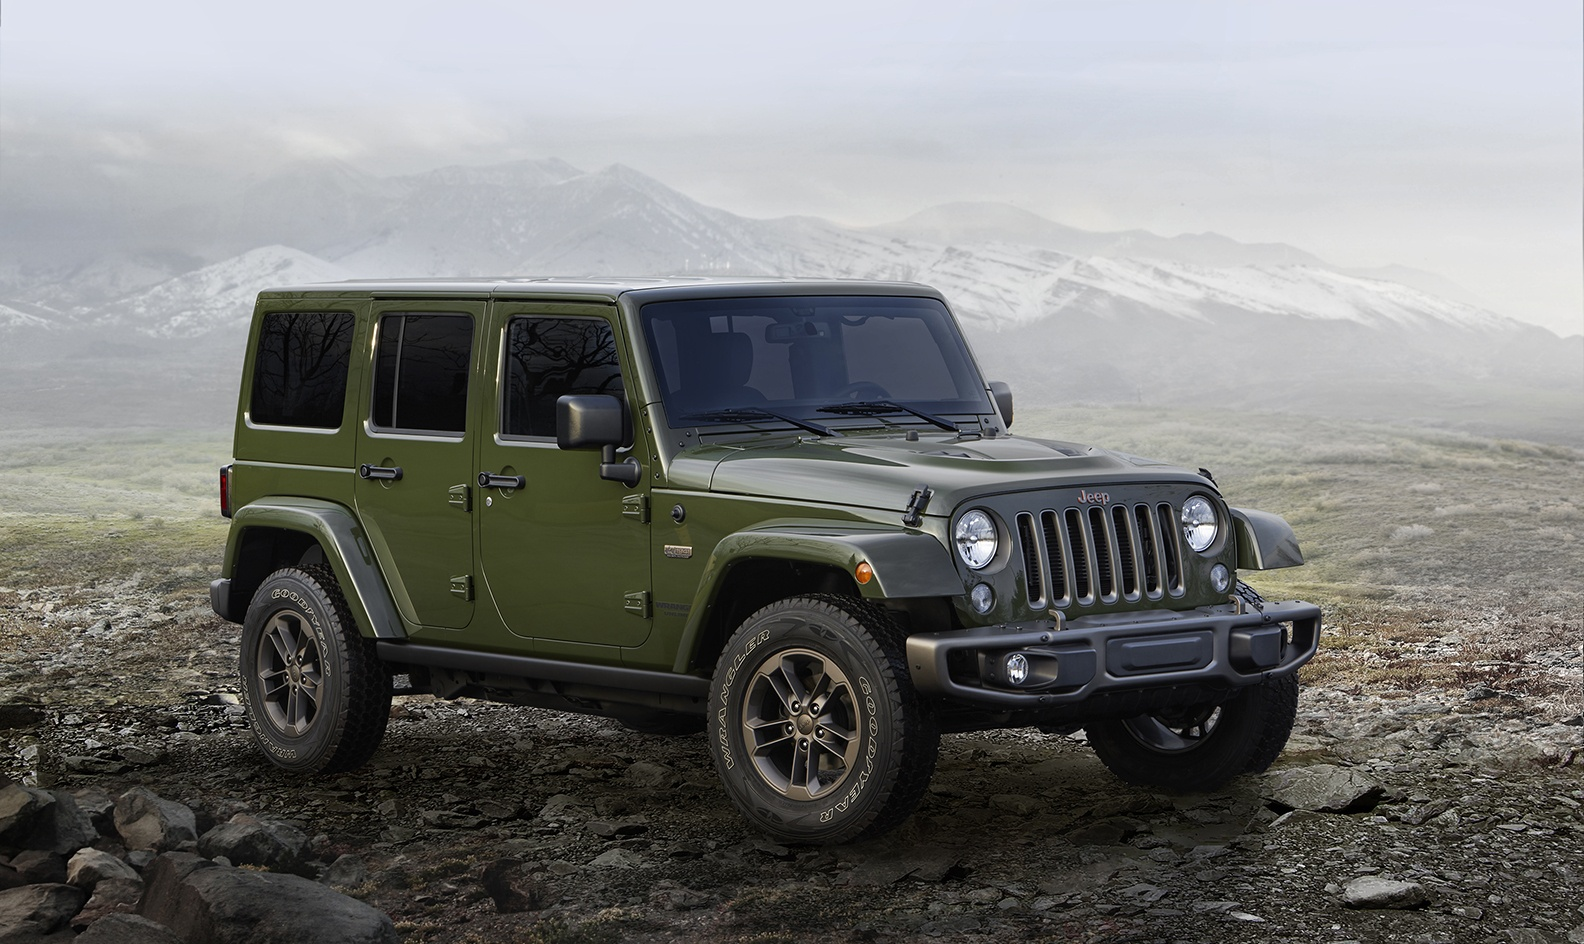jeep: (195, 255, 1331, 827)
